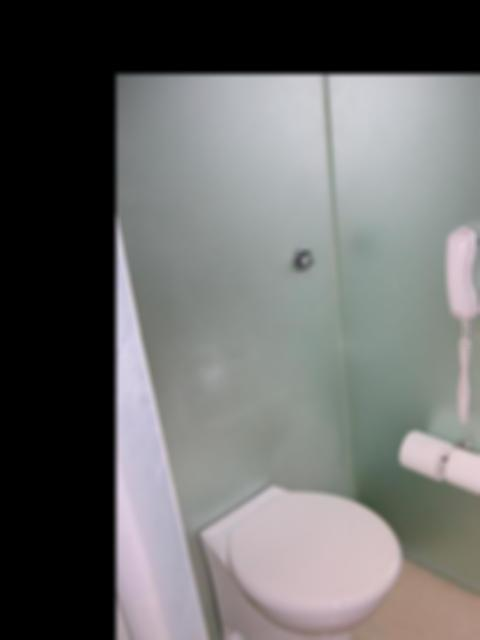Sanitario: (179, 480, 431, 640)
